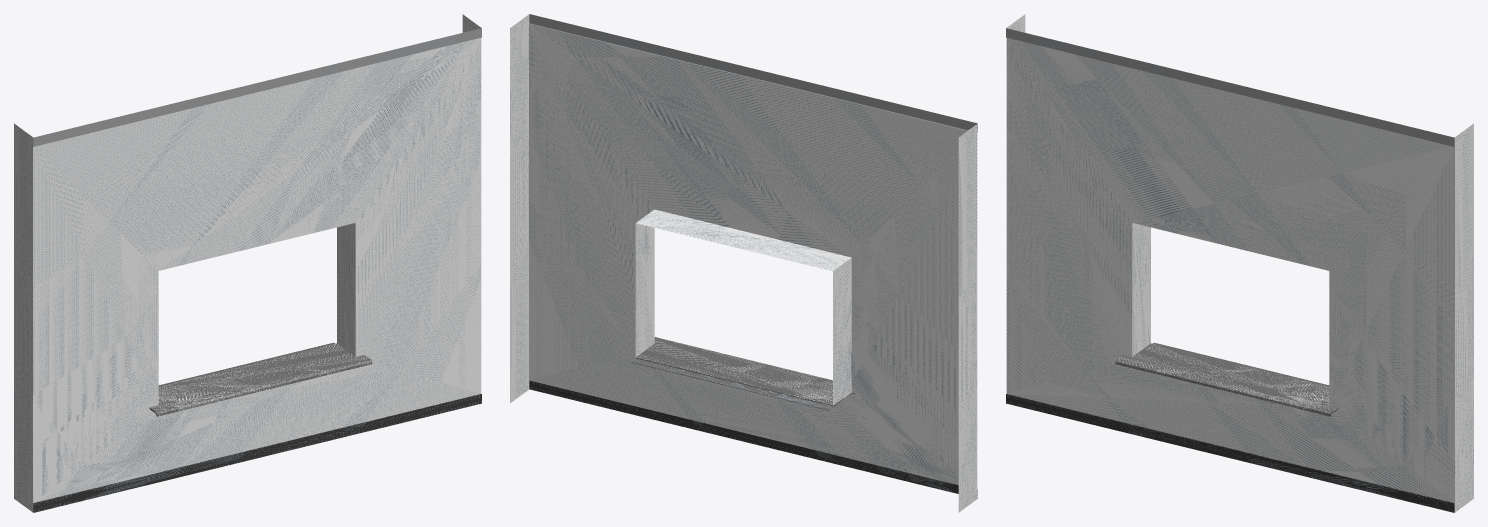
The model's file is WindowBlock_os_plinth_[500x400]_220x143x[080].dae.
3 renders of one model, left to right at view 1: azimuth 30°, elevation 25°; view 2: azimuth 150°, elevation 25°; view 3: azimuth 330°, elevation 25°, orthographic.
Visible parts, largest first — view 1: group_1 (×4), group_2; view 2: group_1 (×4), group_2 (×2); view 3: group_1 (×4), group_2.
Part boxes in pixels (<box>): group_1 (×4): <box>14,14,481,512</box>; group_2: <box>149,343,372,416</box>; group_1 (×4): <box>510,14,977,512</box>; group_2 (×2): <box>632,337,855,410</box>; group_1 (×4): <box>1006,14,1473,512</box>; group_2: <box>1115,343,1337,416</box>.
Bounding box in the file's own units: 197 × 23.03 × 157.
